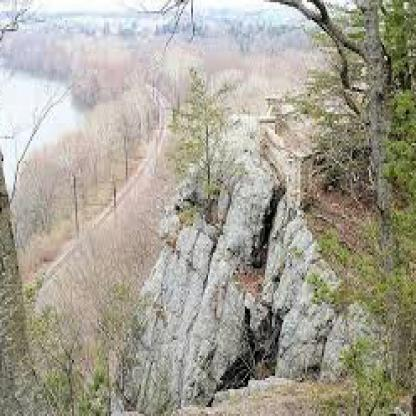Metamorphic_Quartize: (131, 110, 277, 412)
